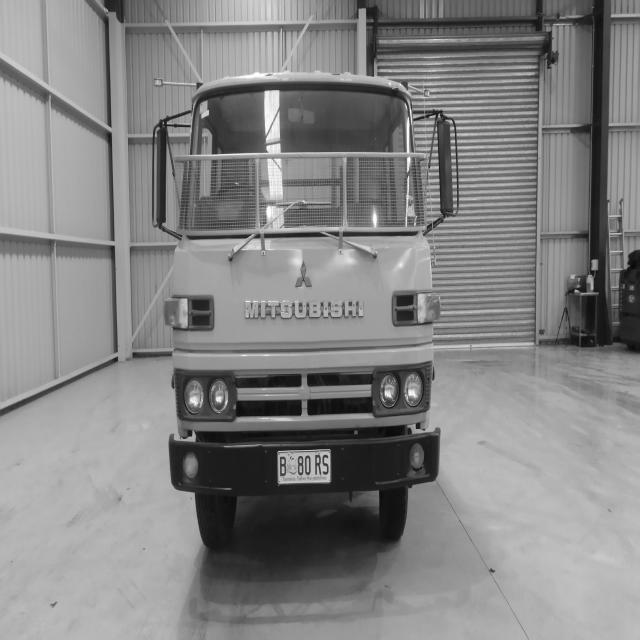truck: (133, 59, 475, 526)
